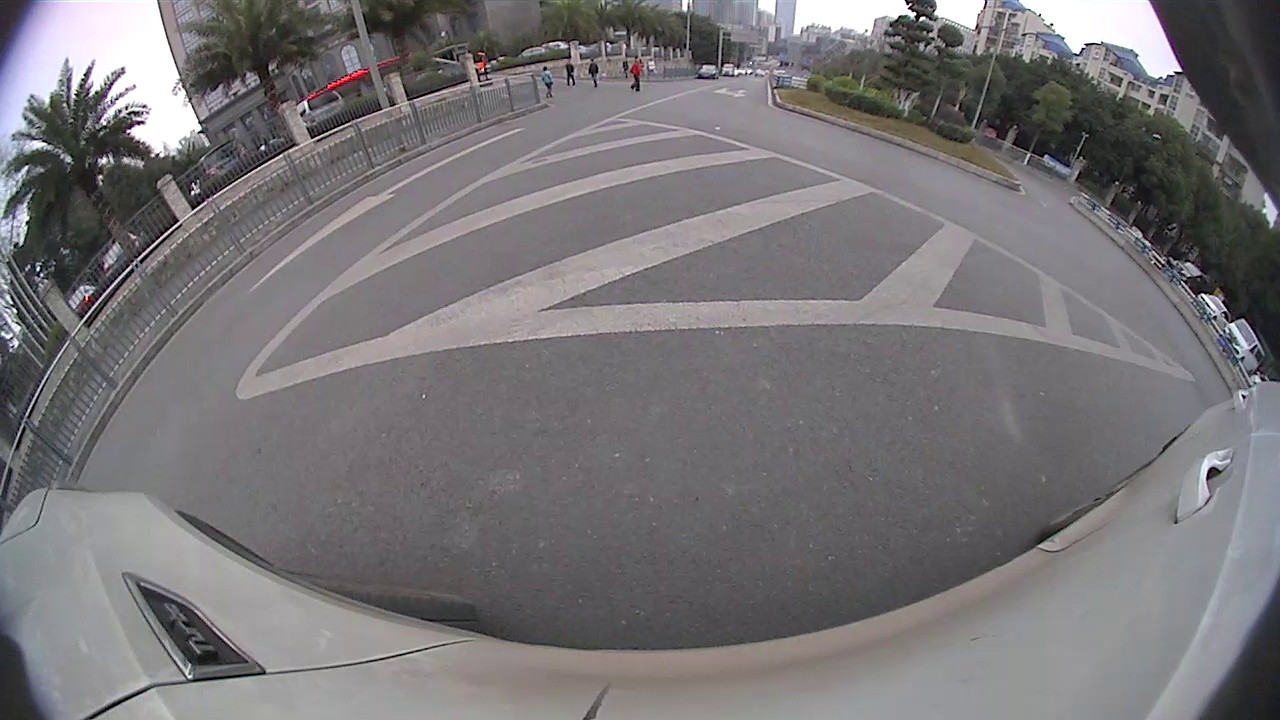car: (1222, 316, 1270, 378), (1195, 291, 1230, 325)
